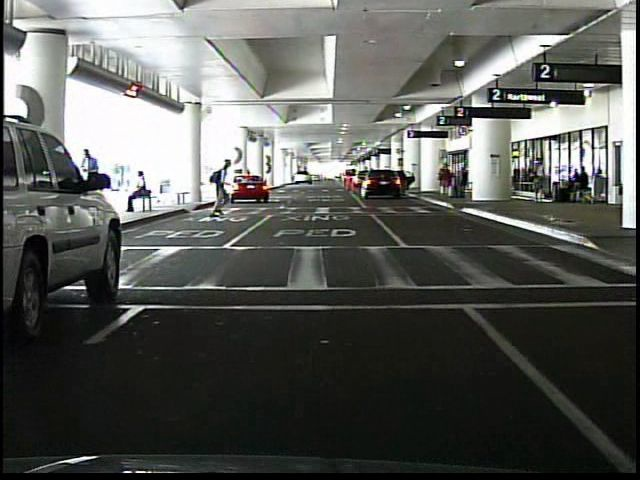person: (201, 158, 236, 219), (82, 147, 107, 216), (128, 169, 153, 214), (437, 162, 455, 199), (534, 155, 548, 201), (460, 164, 461, 198)
